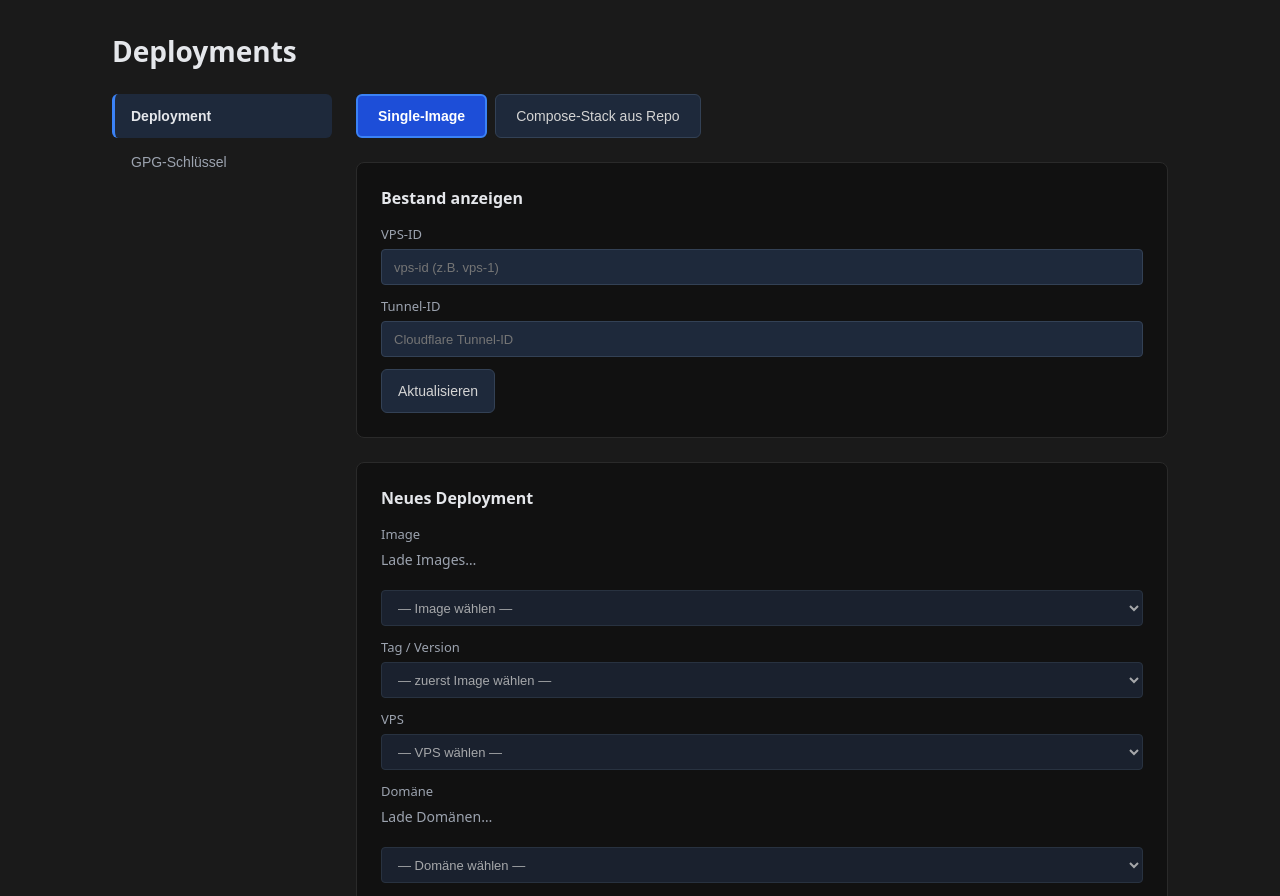
Test case: DeploymentsView — AC12: Stack-Deploy (POST /api/deployments/stacks/{stackName}/deploy) › renders "Stack deployen" button after selecting a stack
Click the button "Compose-Stack aus Repo" at (598, 116), box [495, 94, 700, 138]
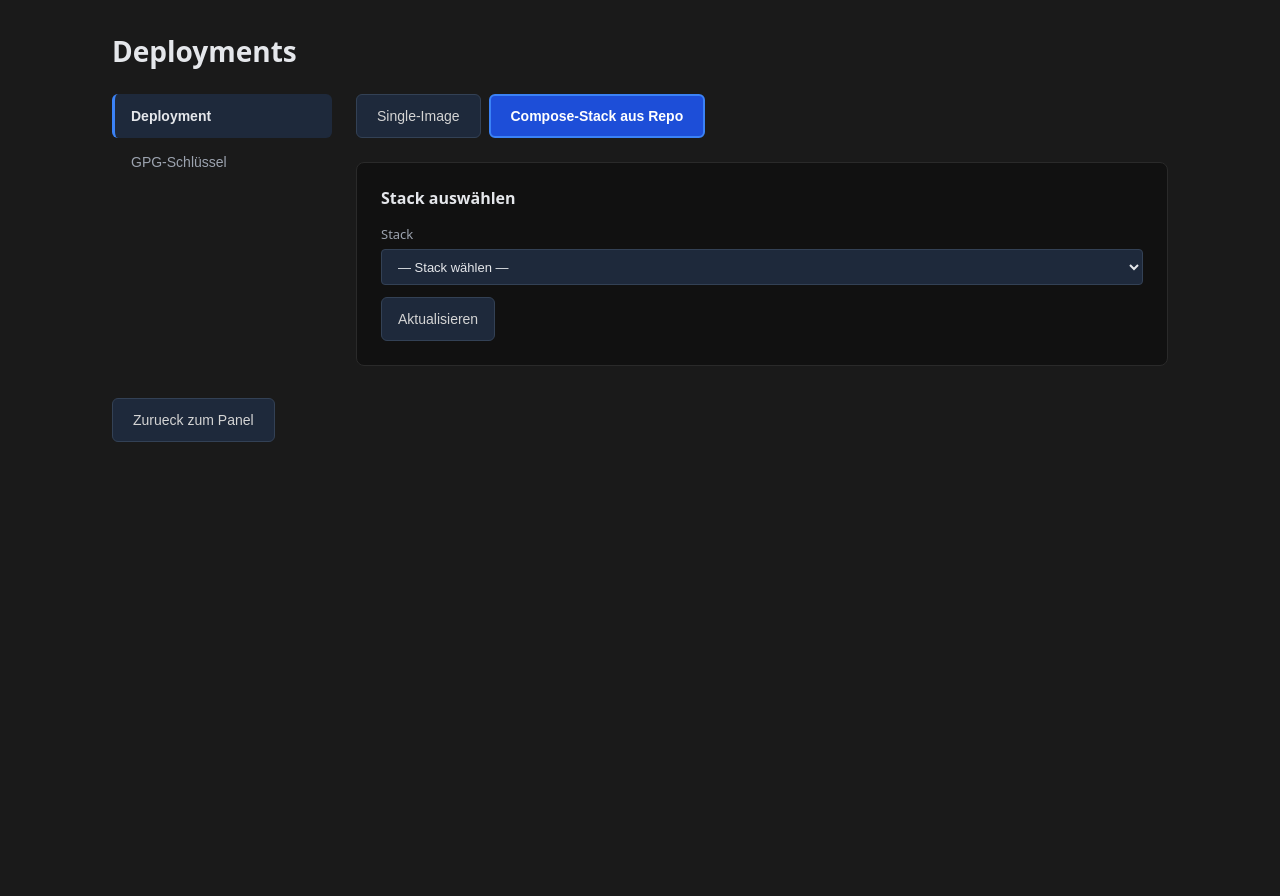
Expected: the dropdown named "Compose-Stack auswählen" is shown
Select "myapp" in the dropdown named "Compose-Stack auswählen" at (762, 267), box [381, 249, 1143, 285]
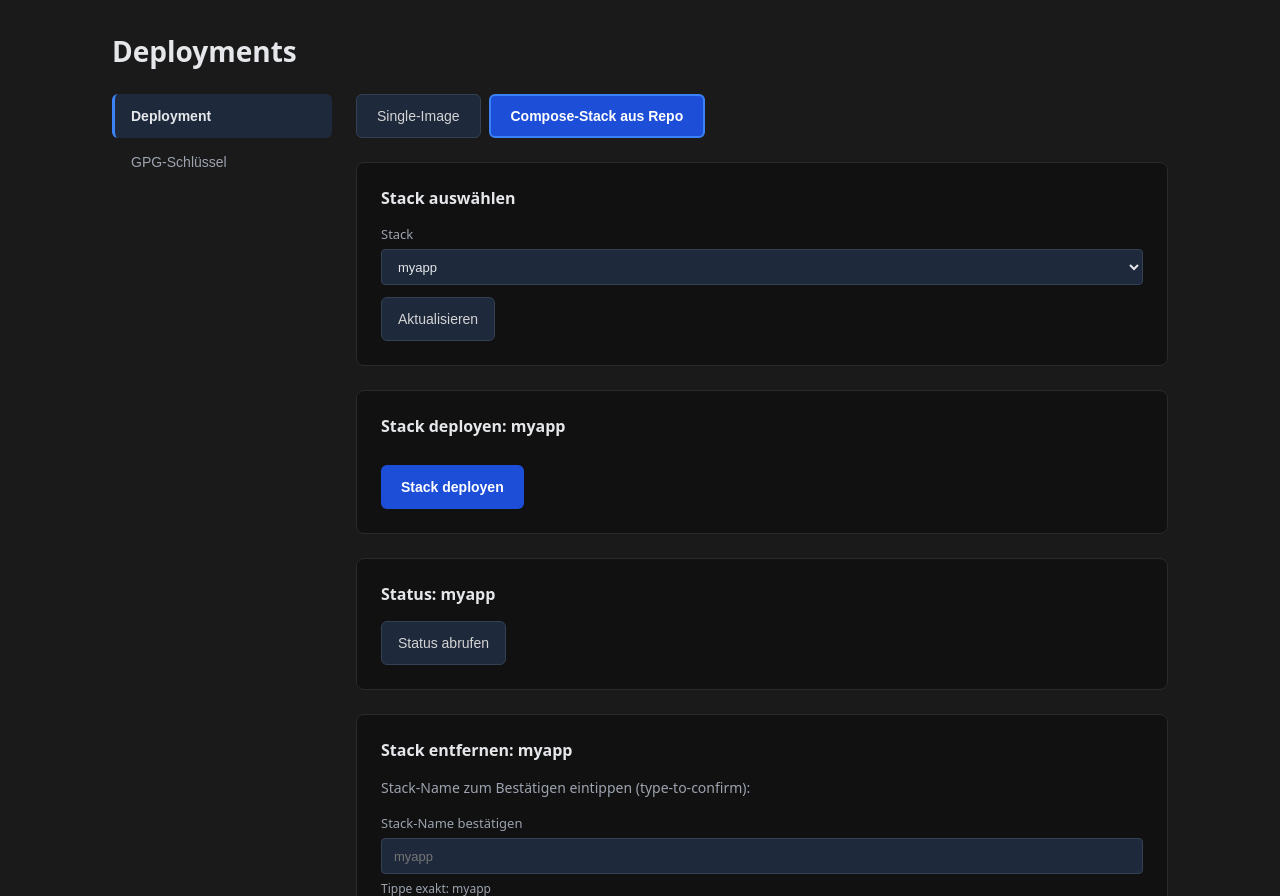
Expected: the button "Stack deployen" is shown, [381, 465, 524, 509]
